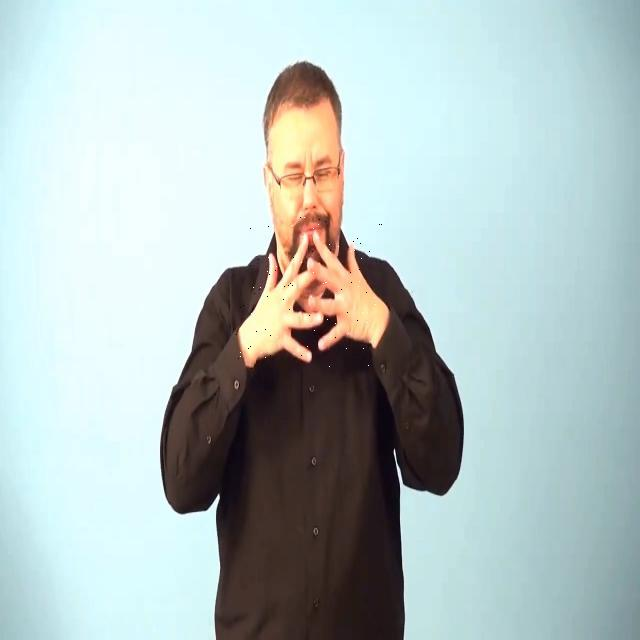juicy: (236, 215, 382, 370)
